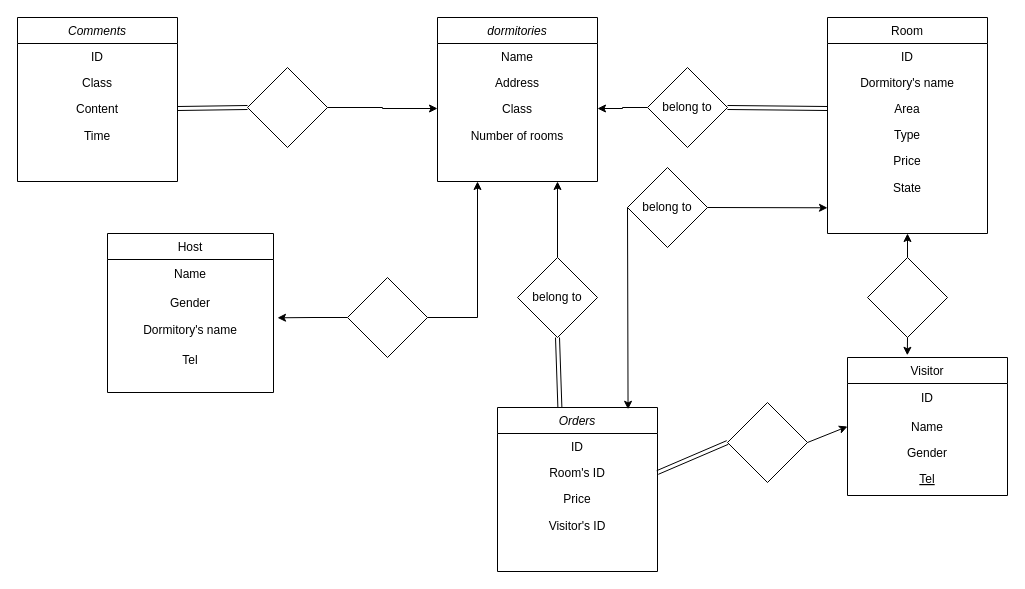
Image size: 1025x589. Some labels were removed from this diagram. The shapes that lost their labels are listed below. From the top down, each one's centre as x and y in pixels, then its label:
At (287,107): "about".
At (387,317): "manage".
At (907,297): "order".
At (767,442): "ordered by".
